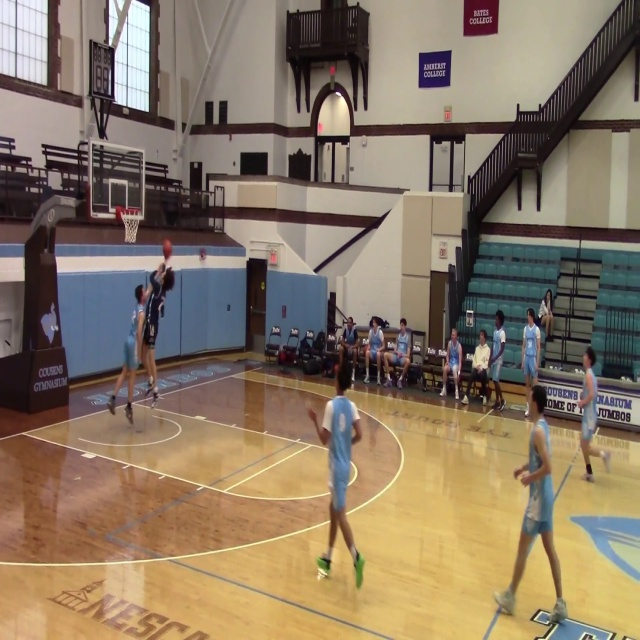Basketball: (163, 239, 172, 258)
